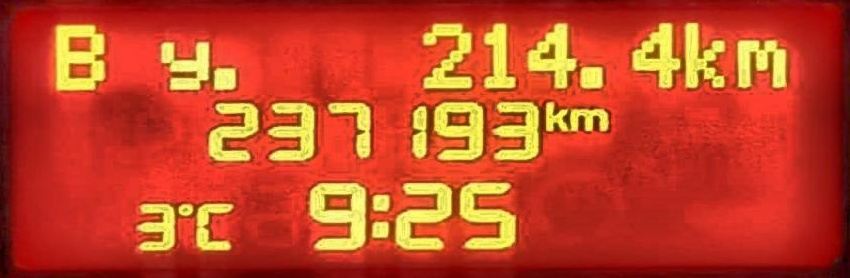-: (210, 66, 240, 91), (577, 65, 606, 89)
1: (479, 19, 518, 90), (407, 104, 430, 160)
2: (391, 181, 453, 250), (419, 21, 473, 89), (205, 102, 258, 161)
3: (264, 101, 315, 162), (489, 101, 540, 161), (133, 202, 176, 252)
4: (524, 20, 578, 89), (629, 20, 681, 90)
5: (455, 181, 519, 250)
7: (322, 101, 371, 158)
9: (306, 181, 370, 250), (430, 100, 485, 160)
X: (50, 22, 106, 91), (682, 20, 725, 88), (157, 39, 210, 90), (733, 38, 787, 88), (191, 201, 234, 251), (566, 107, 608, 132), (368, 192, 390, 239), (541, 100, 568, 132)
